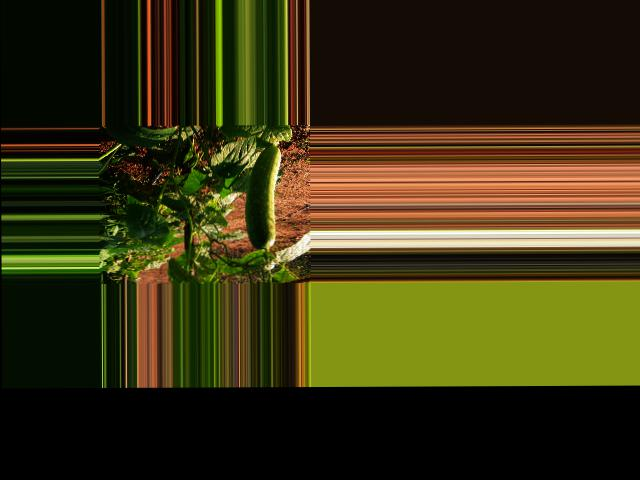cucumber: (245, 145, 282, 248)
